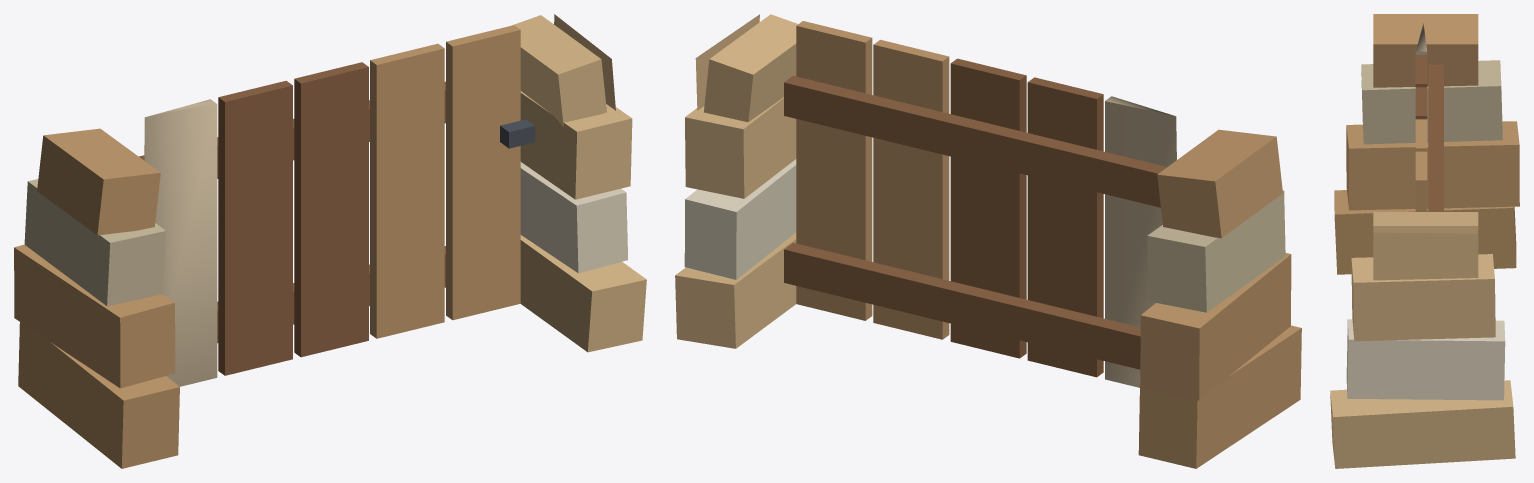
Rendered from fence-stone-gate.lod1.glb.
3 renders of one model, left to right at view 1: azimuth 30°, elevation 25°; view 2: azimuth 150°, elevation 25°; view 3: azimuth 270°, elevation 25°, orthographic. The views are drawn at different scales.
Visible parts, largest first — view 1: fence-stone-gate_lod1; view 2: fence-stone-gate_lod1; view 3: fence-stone-gate_lod1.
Boxes of the visible parts, x1,y1,x2,y2 form: fence-stone-gate_lod1: [14, 14, 646, 468]; fence-stone-gate_lod1: [675, 14, 1301, 468]; fence-stone-gate_lod1: [1330, 14, 1519, 468].
Size of the model in its own units: 1.01 by 0.5436 by 0.3611.
